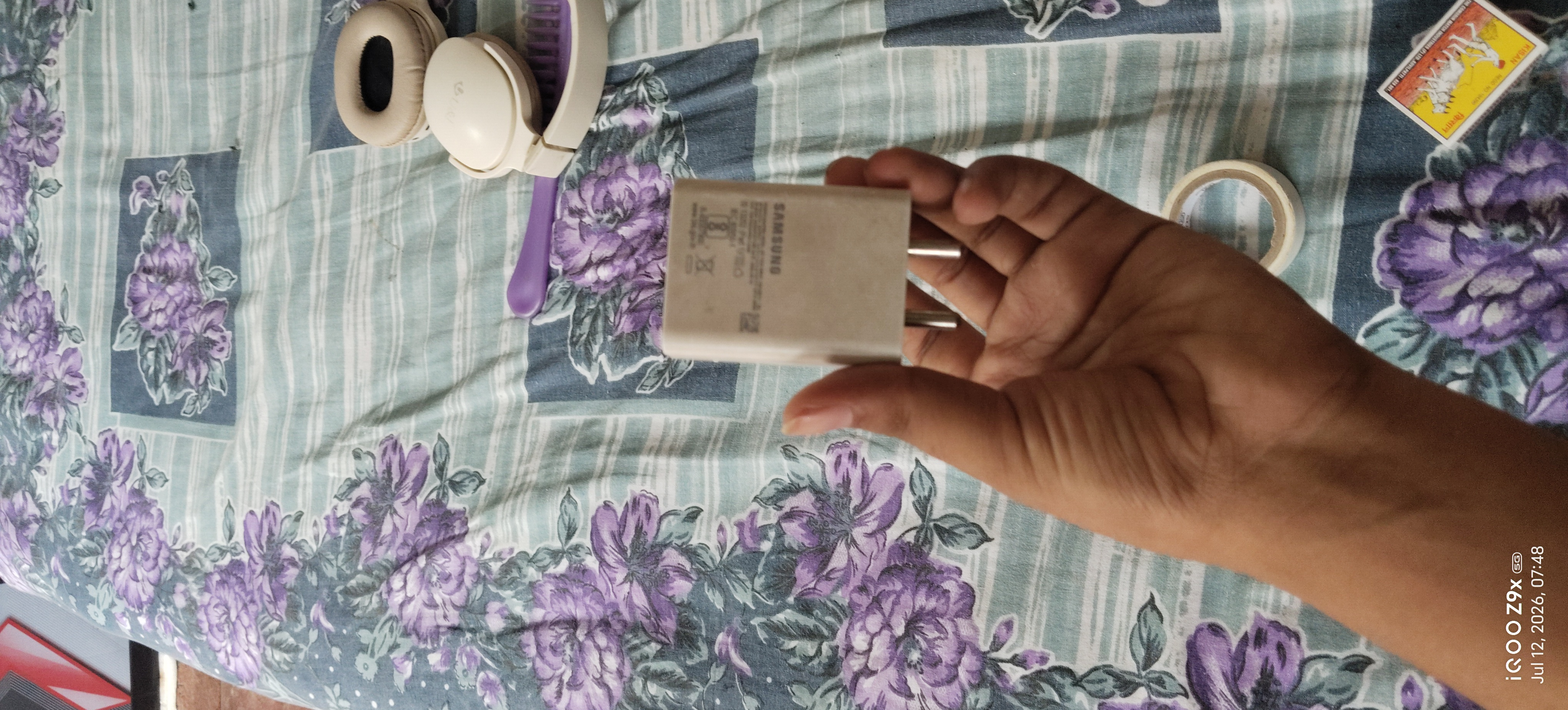charger: (645, 141, 979, 396)
matchbox: (1370, 0, 1552, 180)
tape_roll: (1132, 147, 1313, 297)
